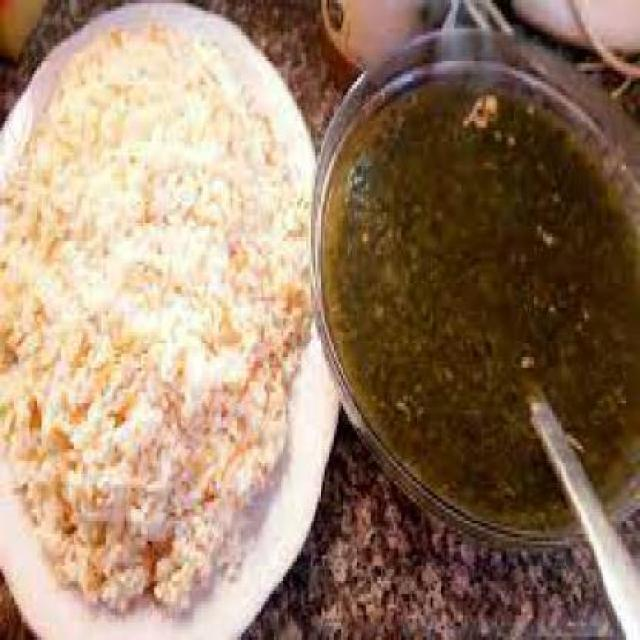molokhia: (318, 63, 638, 542)
